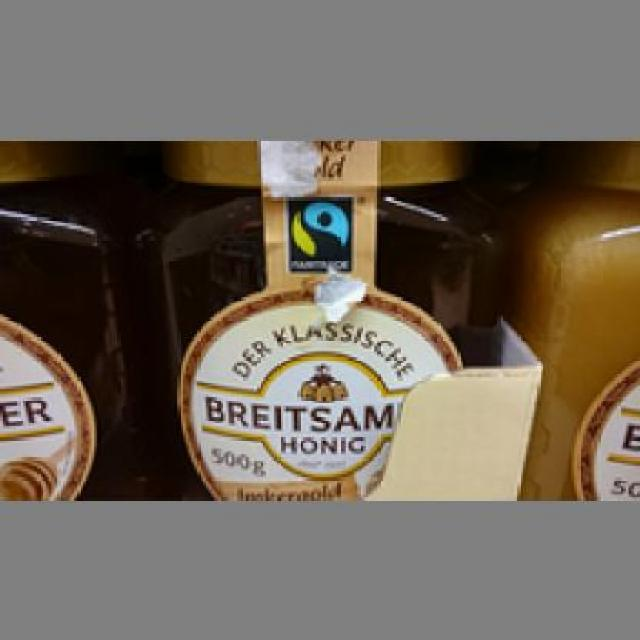Honey: (148, 140, 506, 497)
